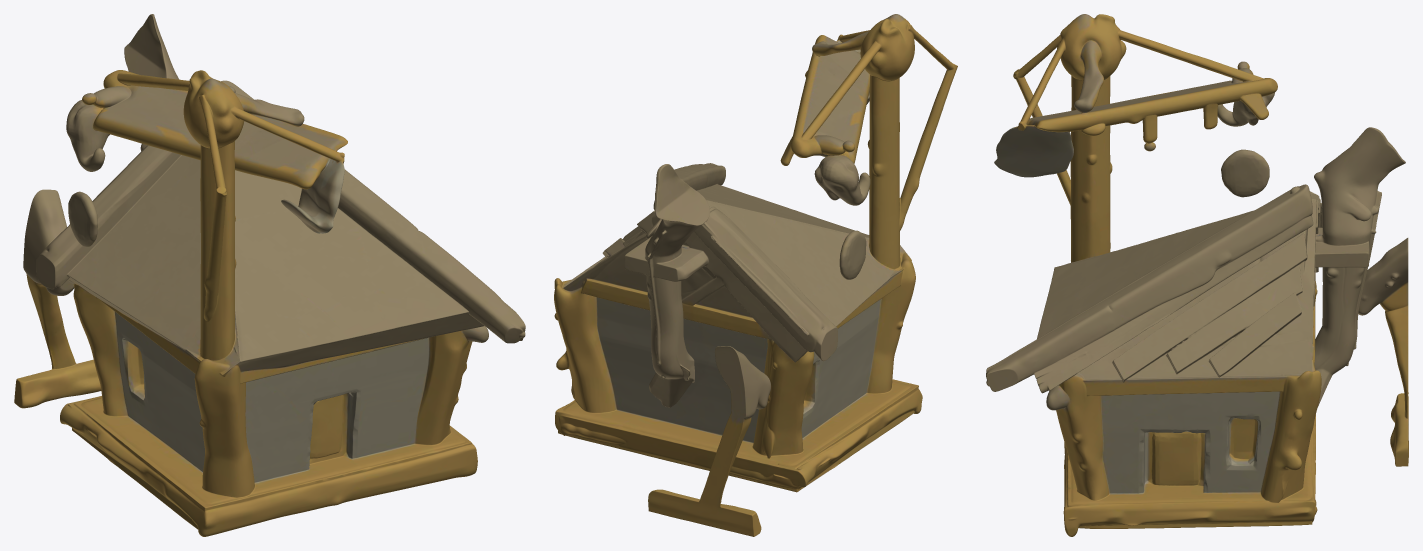
The model's file is workshop.fbx.
3 views of the same model, side by side, from view 1: azimuth 30°, elevation 25°; view 2: azimuth 150°, elevation 25°; view 3: azimuth 270°, elevation 25° (orthographic). The views are drawn at different scales.
Visible parts, largest first — view 1: tripo_node_d418165a-391a-46d4-854d-c0e38980f33b; view 2: tripo_node_d418165a-391a-46d4-854d-c0e38980f33b; view 3: tripo_node_d418165a-391a-46d4-854d-c0e38980f33b.
Part boxes in pixels (left/top/right/bottom): tripo_node_d418165a-391a-46d4-854d-c0e38980f33b: left=14, top=14, right=525, bottom=536; tripo_node_d418165a-391a-46d4-854d-c0e38980f33b: left=554, top=14, right=957, bottom=536; tripo_node_d418165a-391a-46d4-854d-c0e38980f33b: left=986, top=14, right=1408, bottom=536.
Size of the model in its own units: 71.41 by 98.16 by 91.47.
Materials: 1 (1 with a texture image).
